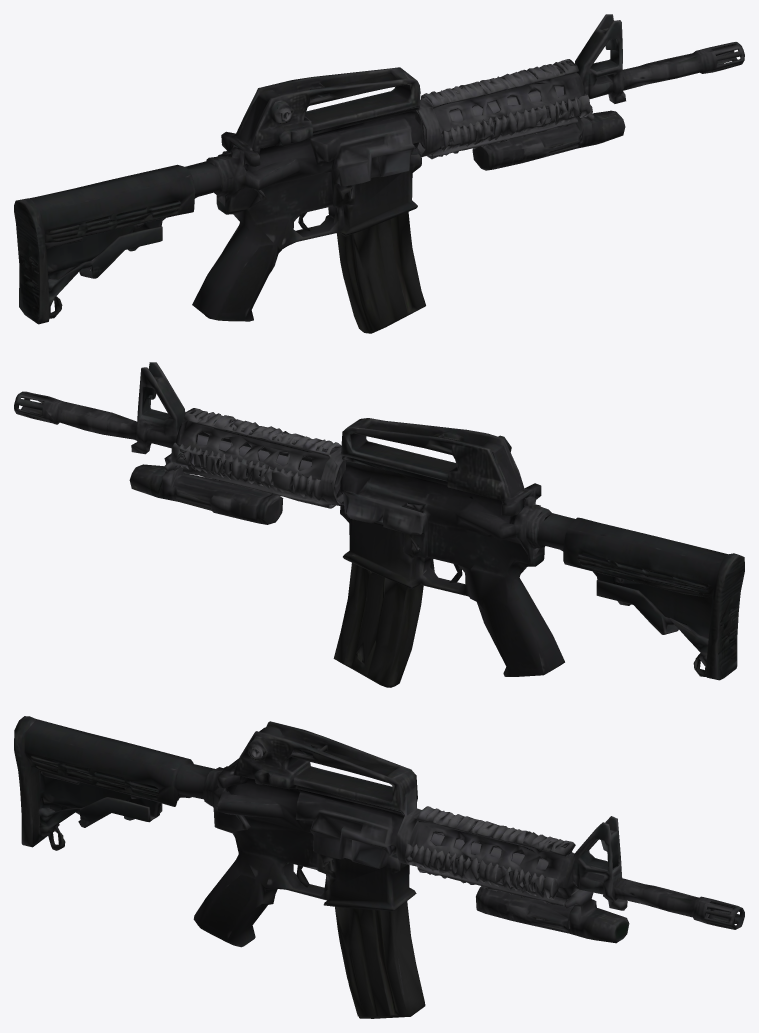
The model's file is rifle.glb.
3 views of the same model, one above another, from view 1: azimuth 30°, elevation 25°; view 2: azimuth 150°, elevation 25°; view 3: azimuth 330°, elevation 25° (orthographic).
Size of the model in its own units: 0.9933 by 0.3493 by 0.0961.
Materials: 1 (1 with a texture image).
